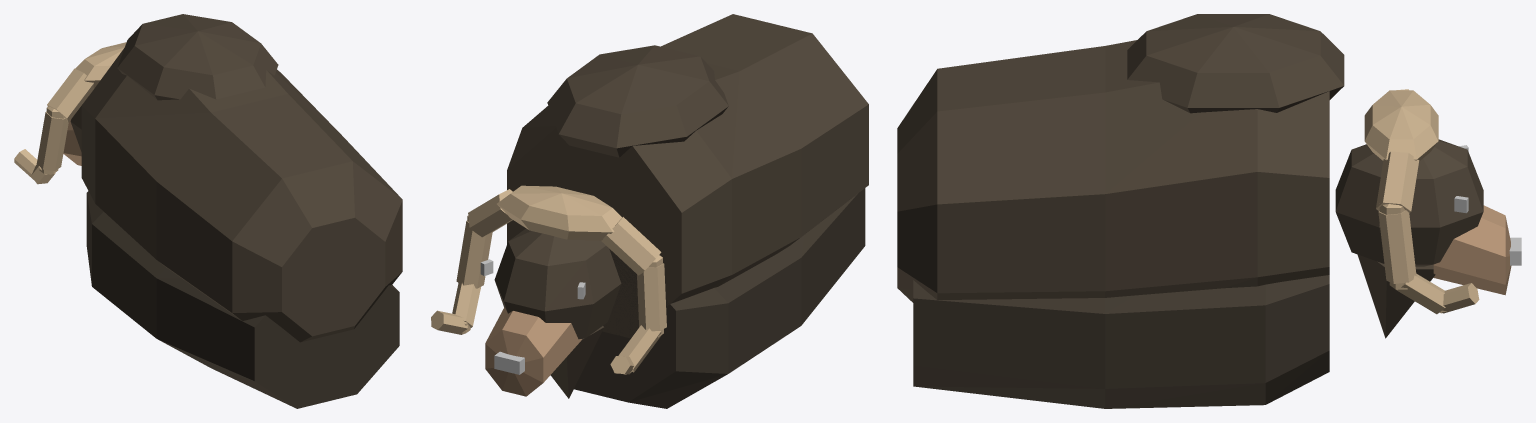
The model's file is animal_muskox.obj.
The picture shows the model from 3 angles, left to right: view 1: azimuth 30°, elevation 25°; view 2: azimuth 150°, elevation 25°; view 3: azimuth 270°, elevation 25°; orthographic projection. The views are drawn at different scales.
Parts seen in each view (by area): view 1: animal_muskox; view 2: animal_muskox; view 3: animal_muskox.
Part boxes in pixels (left/top/right/bottom): animal_muskox: left=14, top=14, right=402, bottom=408; animal_muskox: left=431, top=14, right=868, bottom=408; animal_muskox: left=897, top=14, right=1521, bottom=408.
Size of the model in its own units: 0.6652 by 0.9894 by 1.56.
